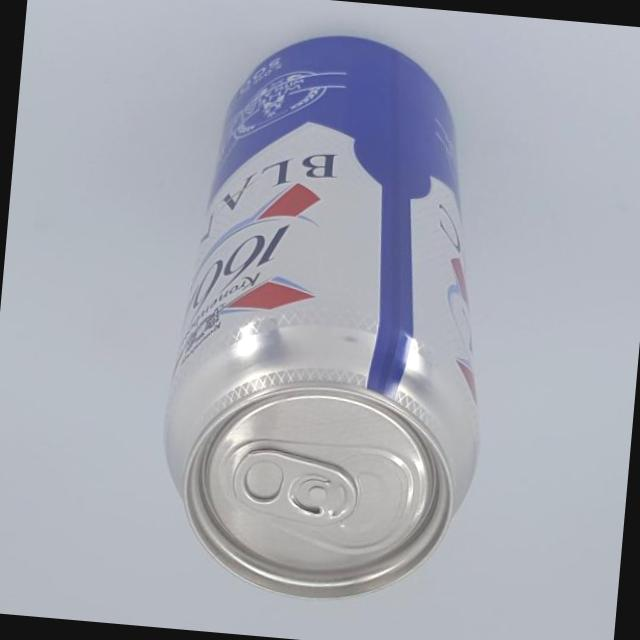can: (147, 19, 519, 616)
